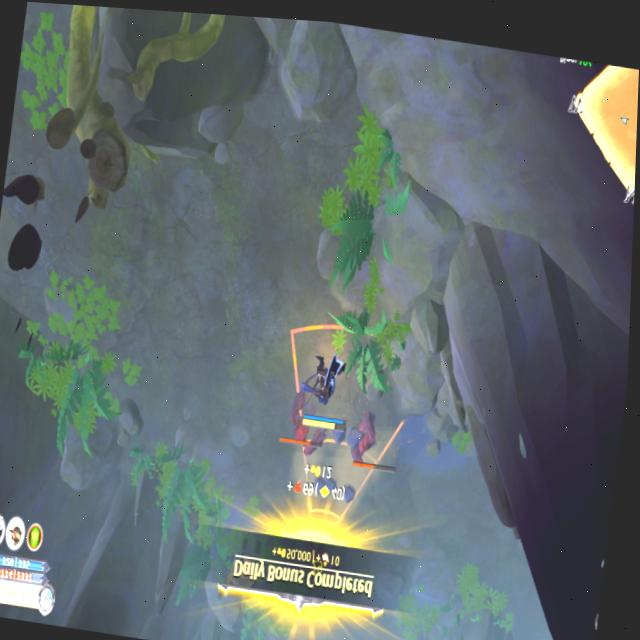ore: (344, 408, 405, 481), (273, 384, 334, 457)
red: (291, 334, 357, 438)
silver: (293, 328, 401, 523)
